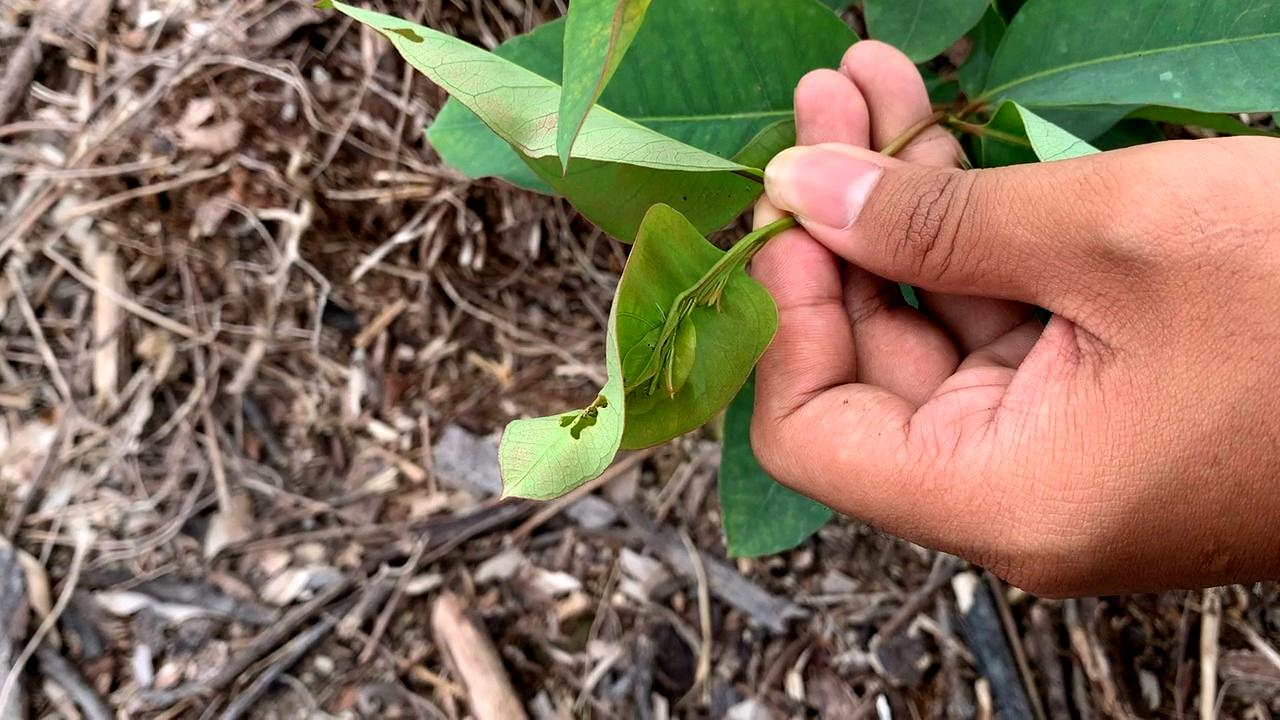Leaf Roller - Leaf: (493, 210, 779, 518)
